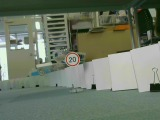speed_20: (64, 52, 79, 66)
